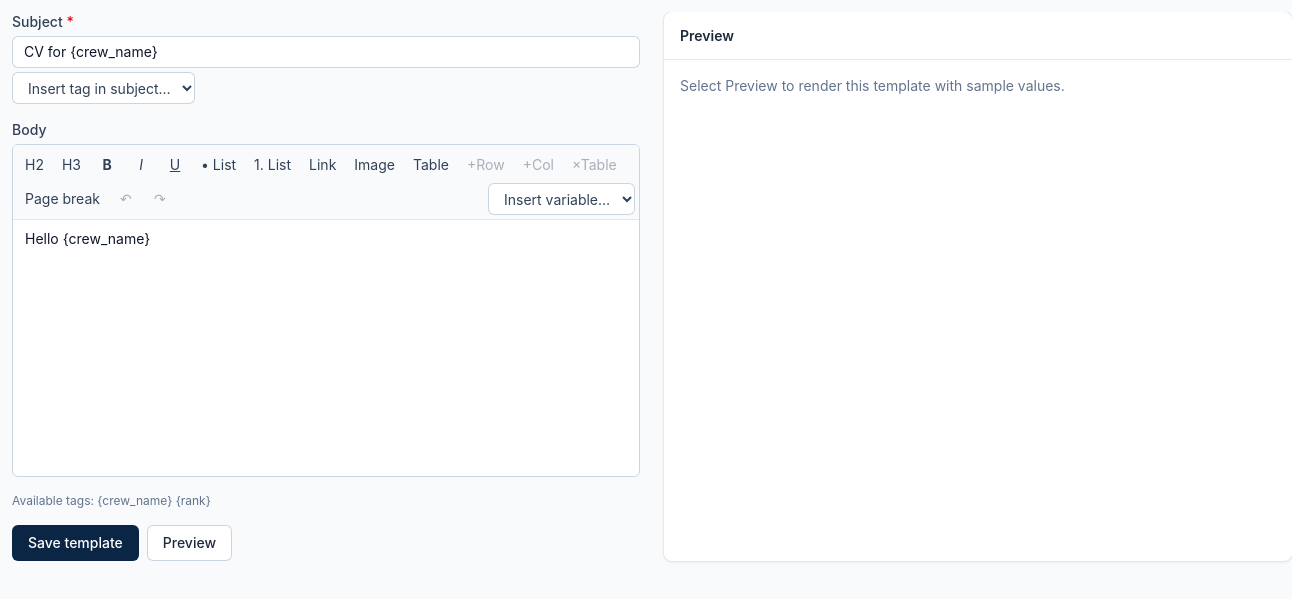
email template editor › does not save an empty subject
Clear the field labelled "Subject *" at (326,52), box left=12, top=36, right=640, bottom=68
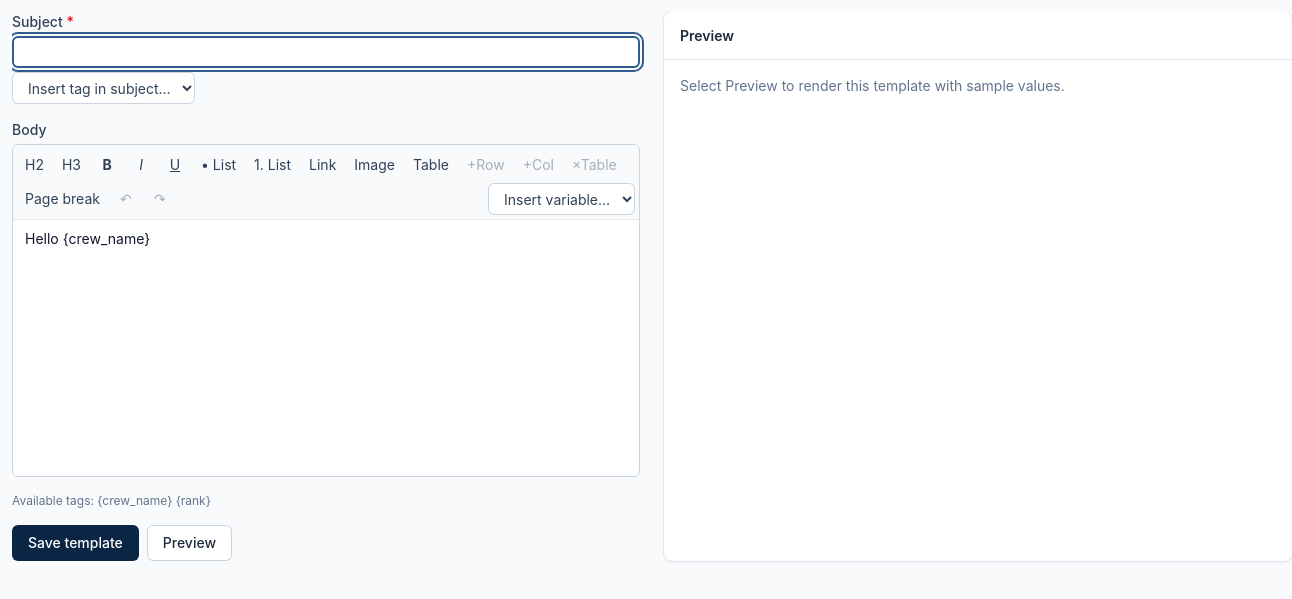
Click the button "Save template" at (75,543), box left=12, top=525, right=139, bottom=561
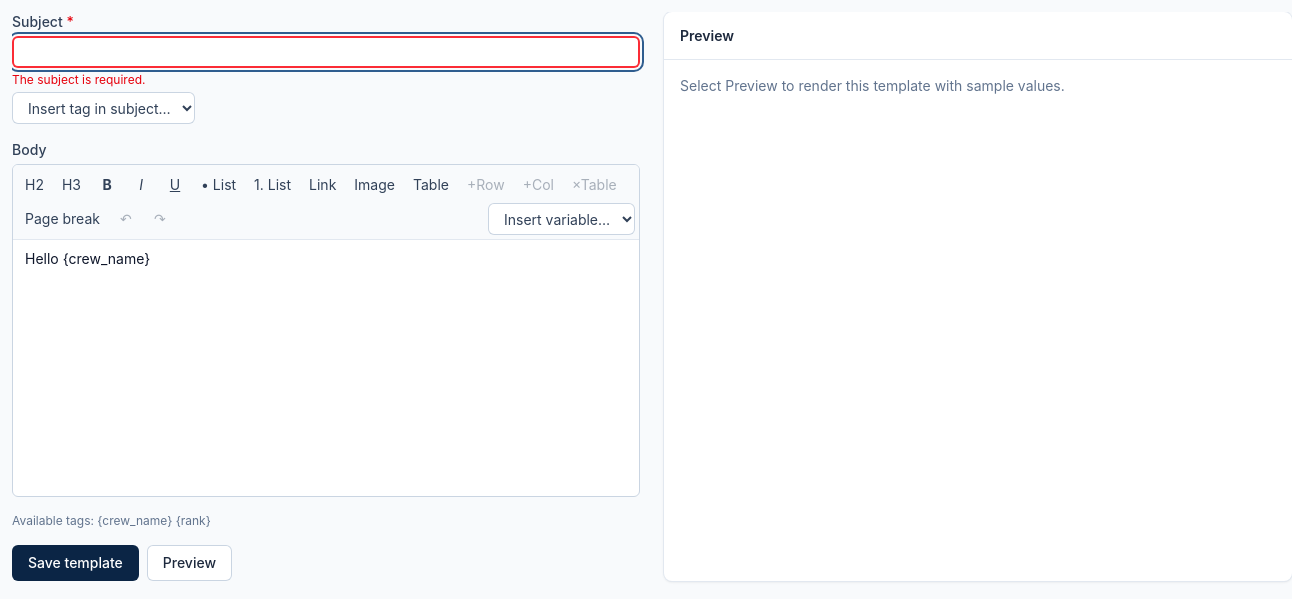
Check: the text "The subject is required." is shown, box left=12, top=72, right=146, bottom=87
